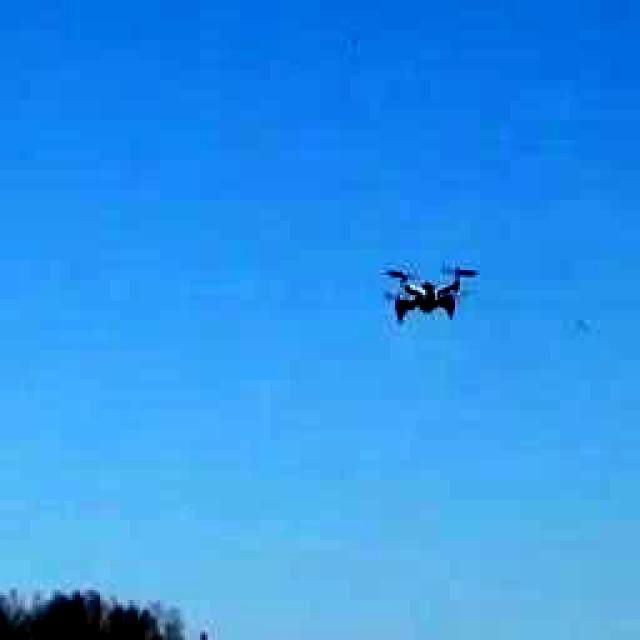bird: (364, 240, 484, 348)
